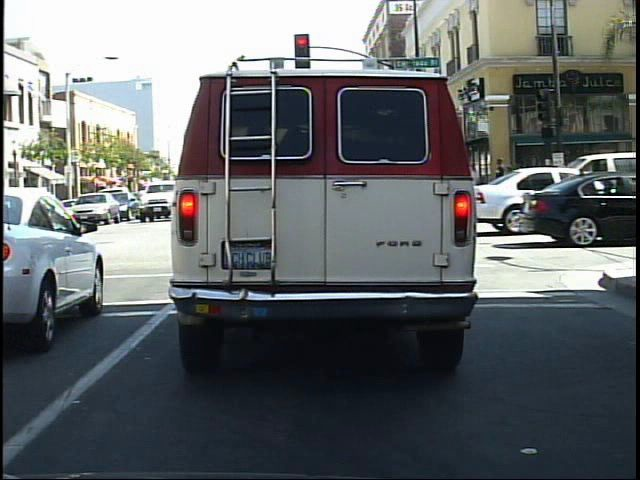person: (536, 154, 564, 217), (516, 157, 541, 212), (491, 156, 511, 213), (502, 162, 521, 212)
